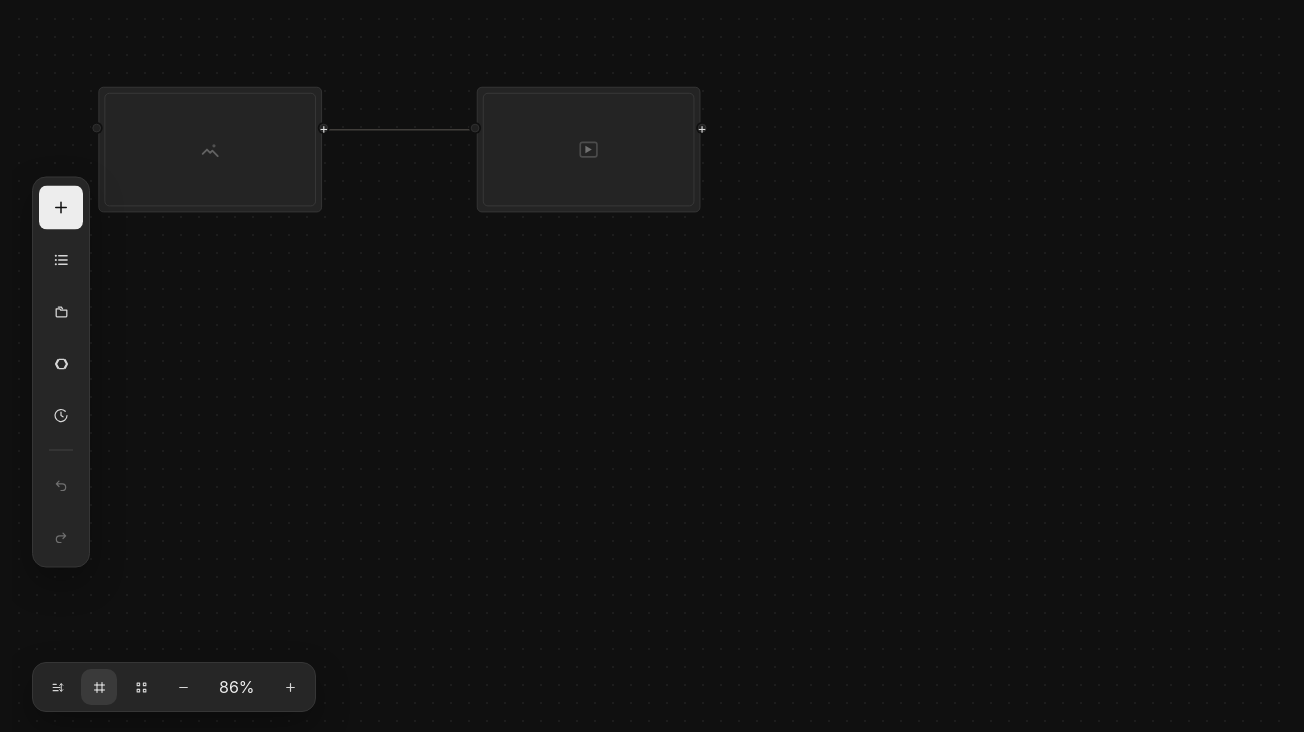
Test: NodeWorkflowPanel smoke › renders a layer-style workflow node record list with unique node identities
The width and height of the screenshot is (1304, 732).
Click the button named "Open workflow node records" at (61, 260), box [39, 238, 83, 282]
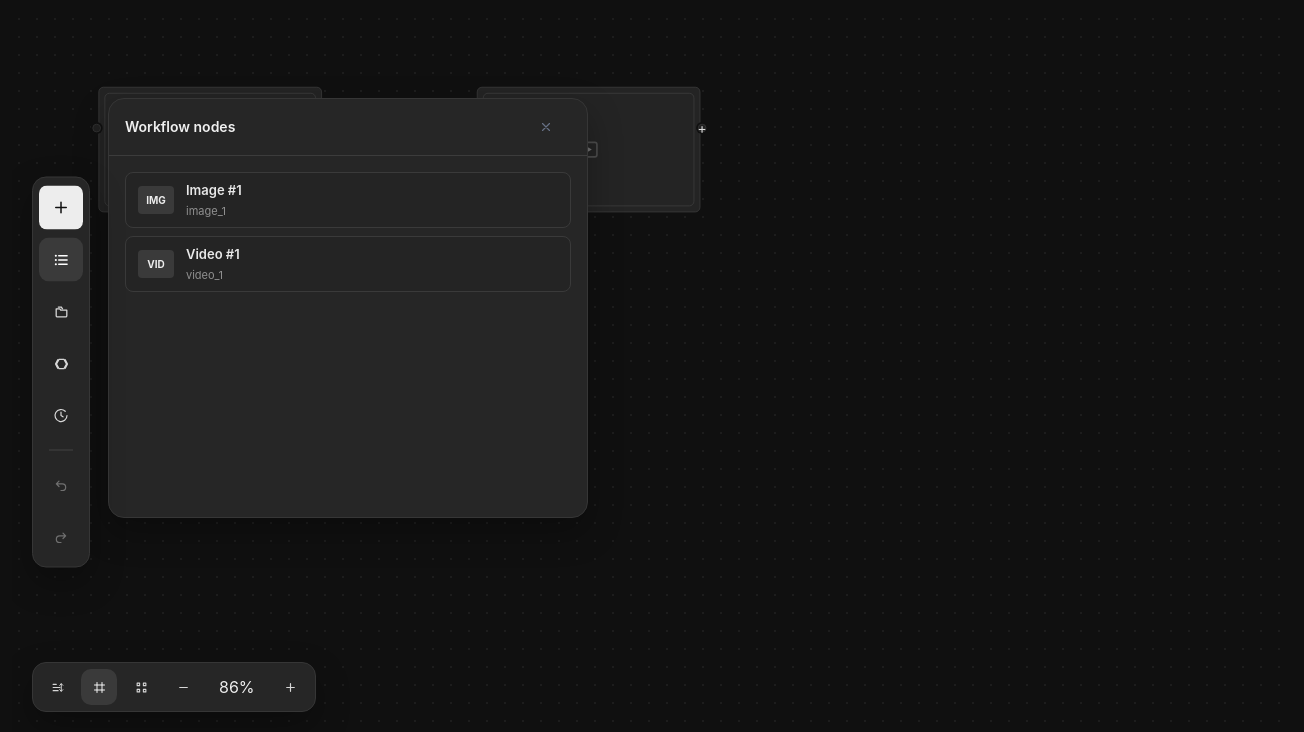
Check: the text "Workflow nodes" is shown, box [125, 117, 235, 137]
Check: the text "Image #1" is shown, box [186, 182, 242, 198]
Check: the text "Video #1" is shown, box [186, 246, 240, 262]
